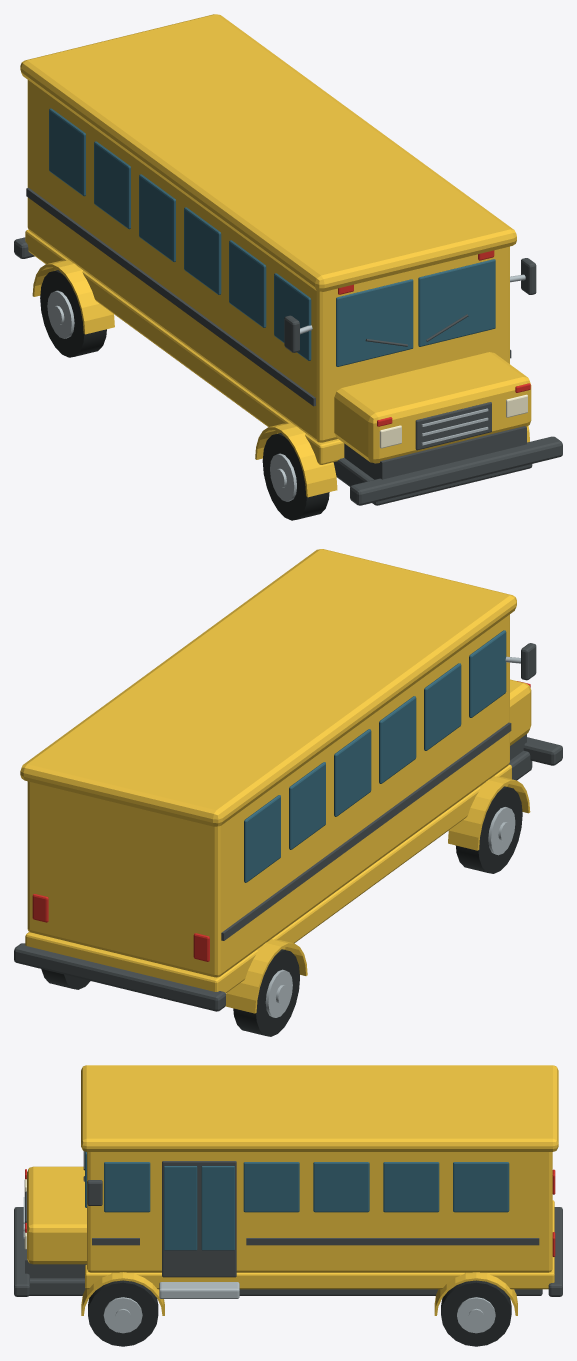
The model's file is school_bus.glb.
The picture shows the model from 3 angles, top to bottom: view 1: azimuth 30°, elevation 25°; view 2: azimuth 150°, elevation 25°; view 3: azimuth 270°, elevation 25°; orthographic projection. The views are drawn at different scales.
Parts seen in each view (by area): view 1: School bus rounded roof, School bus yellow body, School bus short hood, School bus passenger floor, School bus front windshield, School bus front windshield.001, School bus front bumper, School bus hood support, School bus left dark belt, School bus left passenger window.001, School bus left passenger window.002, School bus left passenger window.003 (+11 smaller); view 2: School bus rounded roof, School bus yellow body, School bus passenger floor, School bus rear bumper, School bus left dark belt, School bus left passenger window.002, School bus left passenger window.001, School bus left passenger window.003, School bus left passenger window, School bus left passenger window.004, School bus left passenger window.005, School bus wheel tire.002 (+7 smaller); view 3: School bus rounded roof, School bus yellow body, School bus passenger floor, School bus short hood, School bus entry door frame, School bus right passenger window, School bus right passenger window.001, School bus right passenger window.002, School bus right passenger window.003, School bus entry door glass.001, School bus entry door glass, School bus wheel tire.003 (+14 smaller).
Part boxes in pixels (<box>): School bus rounded roof: <box>20,14,516,291</box>; School bus yellow body: <box>27,80,509,442</box>; School bus short hood: <box>334,352,531,463</box>; School bus passenger floor: <box>25,230,344,464</box>; School bus front windshield: <box>336,279,413,366</box>; School bus front windshield.001: <box>418,259,495,346</box>; School bus front bumper: <box>350,436,562,505</box>; School bus hood support: <box>344,426,526,479</box>; School bus left dark belt: <box>26,187,315,406</box>; School bus left passenger window.001: <box>229,240,266,327</box>; School bus left passenger window.002: <box>184,207,221,294</box>; School bus left passenger window.003: <box>139,174,175,262</box>; School bus rounded roof: <box>20,549,516,826</box>; School bus yellow body: <box>27,614,509,977</box>; School bus passenger floor: <box>25,764,511,993</box>; School bus rear bumper: <box>14,943,225,1011</box>; School bus left dark belt: <box>221,722,511,940</box>; School bus left passenger window.002: <box>379,696,416,783</box>; School bus left passenger window.001: <box>424,663,461,750</box>; School bus left passenger window.003: <box>334,729,371,816</box>; School bus left passenger window: <box>469,630,506,717</box>; School bus left passenger window.004: <box>289,762,325,849</box>; School bus left passenger window.005: <box>244,795,280,882</box>; School bus wheel tire.002: <box>233,949,299,1036</box>; School bus rounded roof: <box>81,1065,558,1151</box>; School bus yellow body: <box>87,1152,552,1272</box>; School bus passenger floor: <box>85,1200,554,1289</box>; School bus short hood: <box>27,1166,86,1264</box>; School bus entry door frame: <box>162,1161,236,1277</box>; School bus right passenger window: <box>243,1162,299,1212</box>; School bus right passenger window.001: <box>313,1162,369,1212</box>; School bus right passenger window.002: <box>383,1162,439,1212</box>; School bus right passenger window.003: <box>453,1162,509,1212</box>; School bus entry door glass.001: <box>201,1166,234,1250</box>; School bus entry door glass: <box>164,1166,197,1250</box>; School bus wheel tire.003: <box>441,1280,511,1346</box>.
Bounding box in the file's own units: 2.79 × 2.79 × 6.84.
